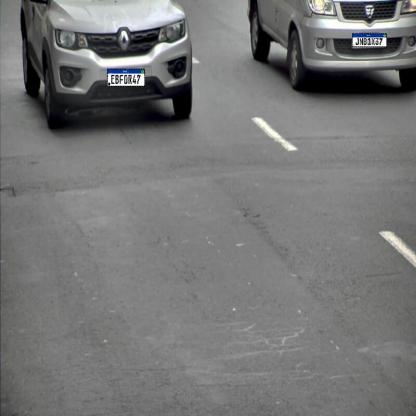PlacaM: (107, 68, 145, 86), (352, 33, 387, 47)
